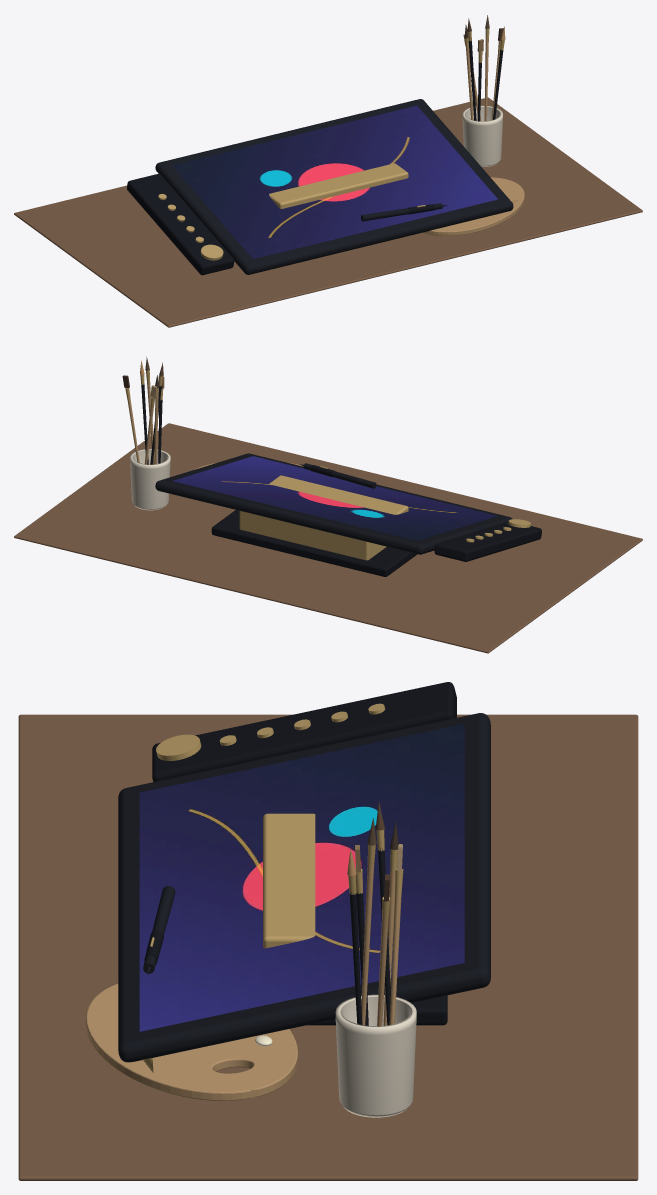
File: atelier-artist-set-tablet-oak.glb
3 views of the same model, one above another, from view 1: azimuth 30°, elevation 25°; view 2: azimuth 150°, elevation 25°; view 3: azimuth 270°, elevation 25° (orthographic). The views are drawn at different scales.
Size of the model in its own units: 0.92 by 0.277 by 0.52.
Materials: 20 (1 with a texture image).
